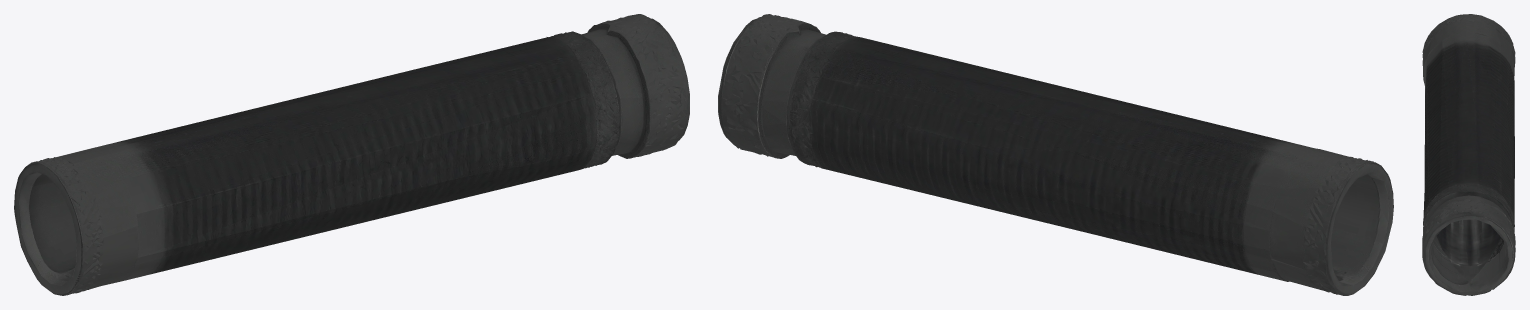
Rendered from mod_suppressor.glb.
3 views of the same model, side by side, from view 1: azimuth 30°, elevation 25°; view 2: azimuth 150°, elevation 25°; view 3: azimuth 270°, elevation 25° (orthographic). The views are drawn at different scales.
Size of the model in its own units: 1.9 by 0.3746 by 0.375.
1 material, 1 textured.
